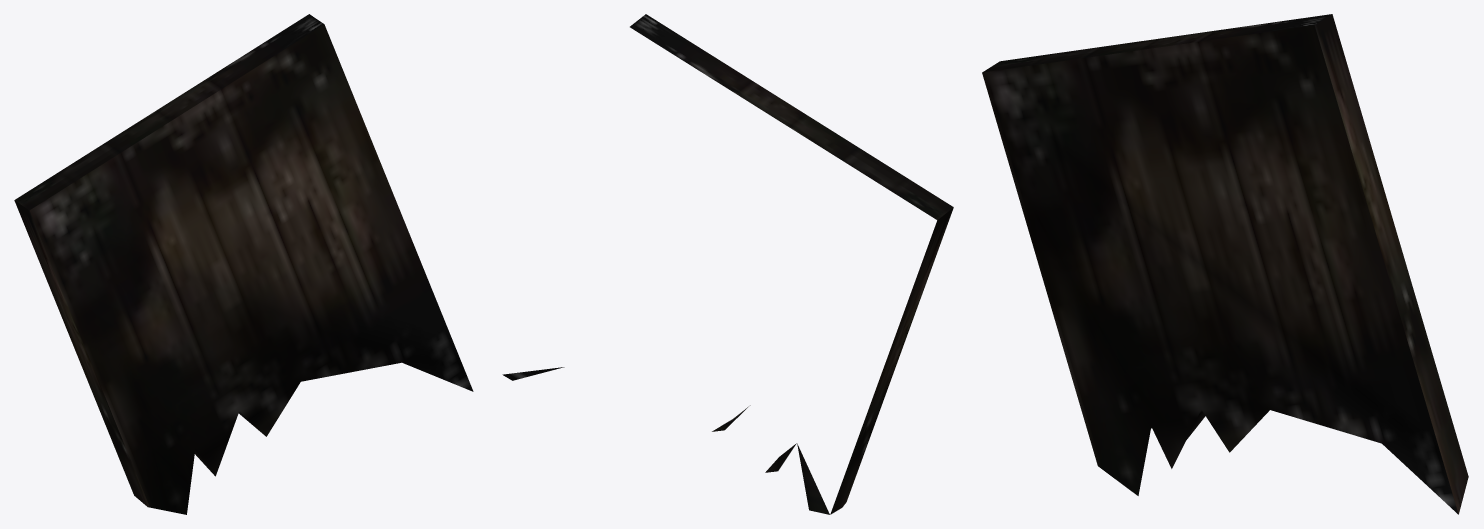
3 renders of one model, left to right at view 1: azimuth 30°, elevation 25°; view 2: azimuth 150°, elevation 25°; view 3: azimuth 330°, elevation 25°, orthographic. The views are drawn at different scales.
Visible parts, largest first — view 1: model_Object68; view 2: model_Object68; view 3: model_Object68.
Boxes of the visible parts, x1,y1,x2,y2 form: model_Object68: (14,14,473,514); model_Object68: (502,14,953,514); model_Object68: (982,14,1468,514).
Size of the model in its own units: 0.8868 by 0.8743 by 0.0922.
Materials: 1 (1 with a texture image).
